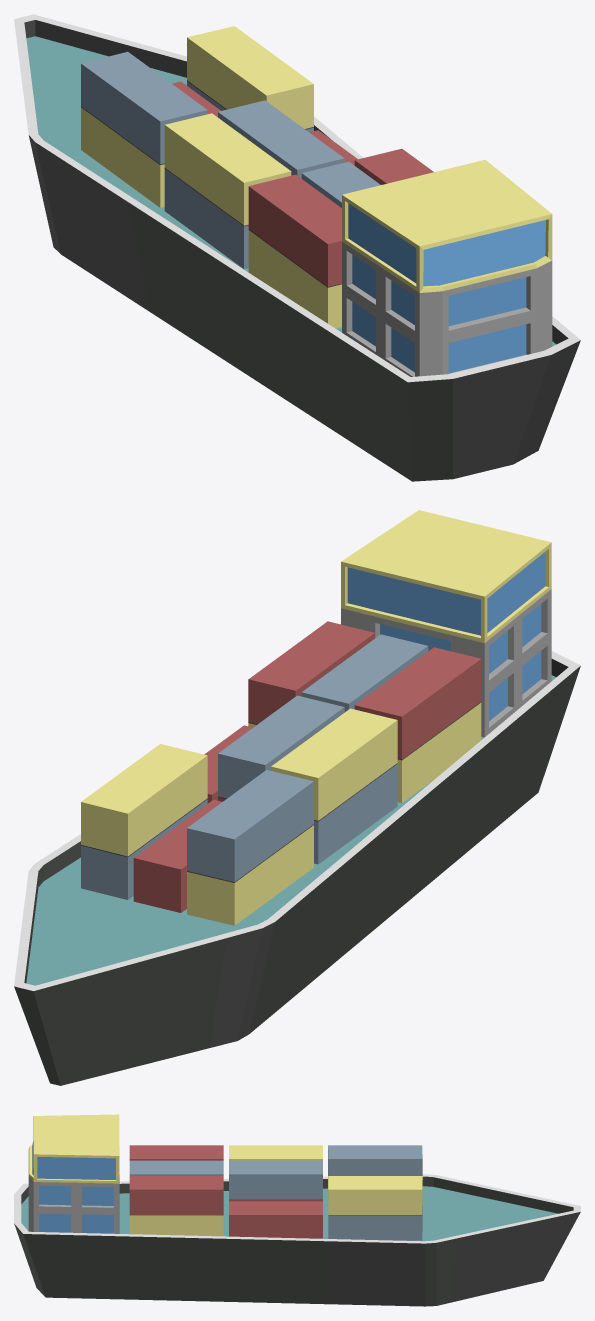
The model's file is ship3.glb.
The picture shows the model from 3 angles, top to bottom: view 1: azimuth 30°, elevation 25°; view 2: azimuth 150°, elevation 25°; view 3: azimuth 270°, elevation 25°; orthographic projection. The views are drawn at different scales.
Visible parts, largest first — view 1: Cube; view 2: Cube; view 3: Cube.
Boxes of the visible parts, box(x1,y1,x2,y2) form: Cube: box(14, 14, 580, 481); Cube: box(14, 510, 580, 1085); Cube: box(14, 1114, 580, 1306).
Size of the model in its own units: 2.35 by 2.28 by 8.11.
